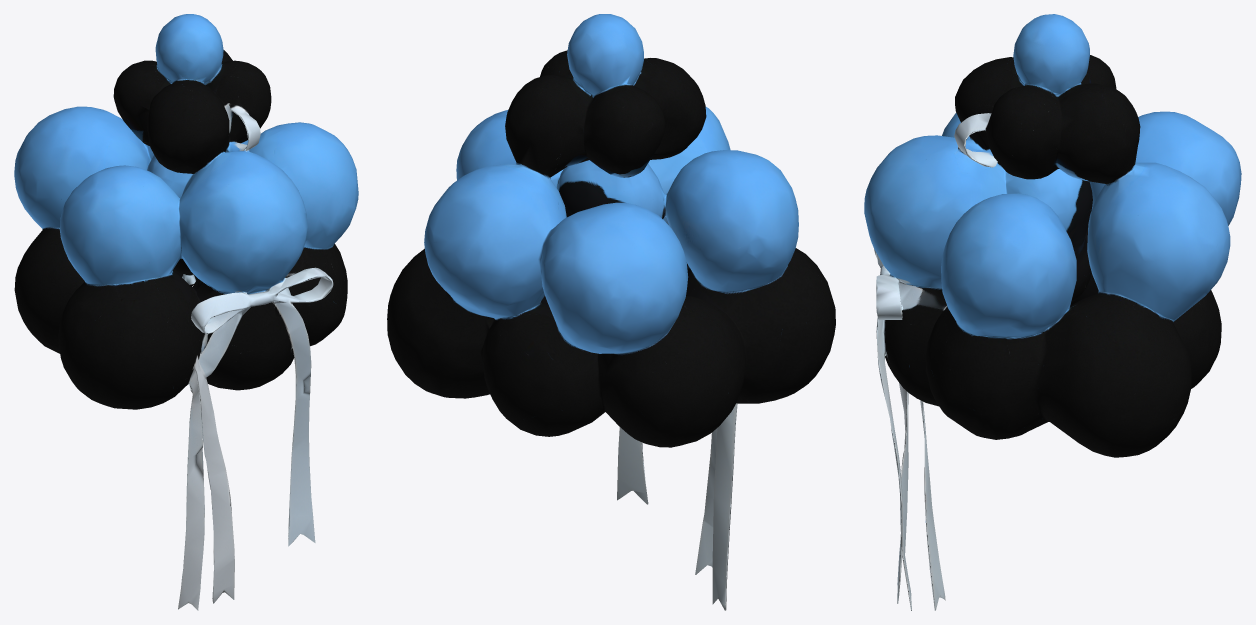
Rendered from balloon_hat.glb.
The picture shows the model from 3 angles, left to right: view 1: azimuth 30°, elevation 25°; view 2: azimuth 150°, elevation 25°; view 3: azimuth 270°, elevation 25°; orthographic projection. The views are drawn at different scales.
Visible parts, largest first — view 1: Mesh_0; view 2: Mesh_0; view 3: Mesh_0.
Boxes of the visible parts, bbox=[...] form: Mesh_0: bbox=[14, 14, 358, 610]; Mesh_0: bbox=[387, 14, 835, 610]; Mesh_0: bbox=[864, 14, 1241, 610].
Size of the model in its own units: 1.15 by 1.9 by 1.05.
Materials: 1 (1 with a texture image).
